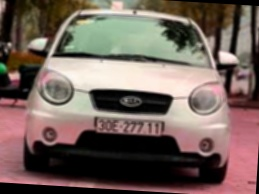Bien-so: (100, 124, 164, 144)
